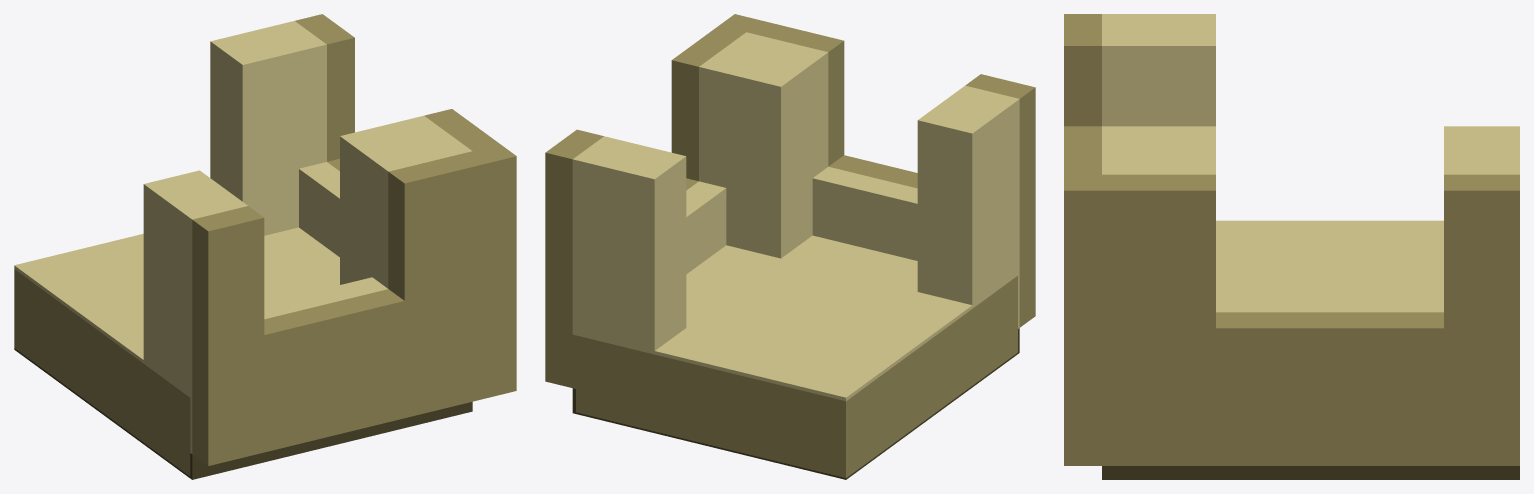
The model's file is sandtower_1.0-8.obj.
The picture shows the model from 3 angles, left to right: view 1: azimuth 30°, elevation 25°; view 2: azimuth 150°, elevation 25°; view 3: azimuth 270°, elevation 25°; orthographic projection. The views are drawn at different scales.
Size of the model in its own units: 17.6 by 14.2 by 19.2.
1 material, 1 textured.
